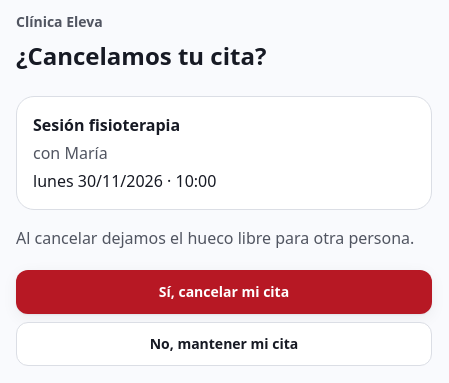
Scenario: PantallaCancelacion (003) › [003][FR-017][US2-AC2] confirmar envía el POST y muestra «Tu cita está cancelada» sin recargar
Click the button "Sí, cancelar mi cita" at {"x": 224, "y": 292}, box [16, 270, 432, 314]
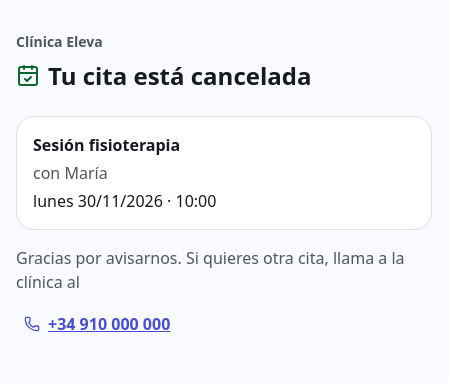
Now the heading "Tu cita está cancelada" is shown, box [16, 59, 311, 92]
Now the button "Sí, cancelar mi cita" is gone
